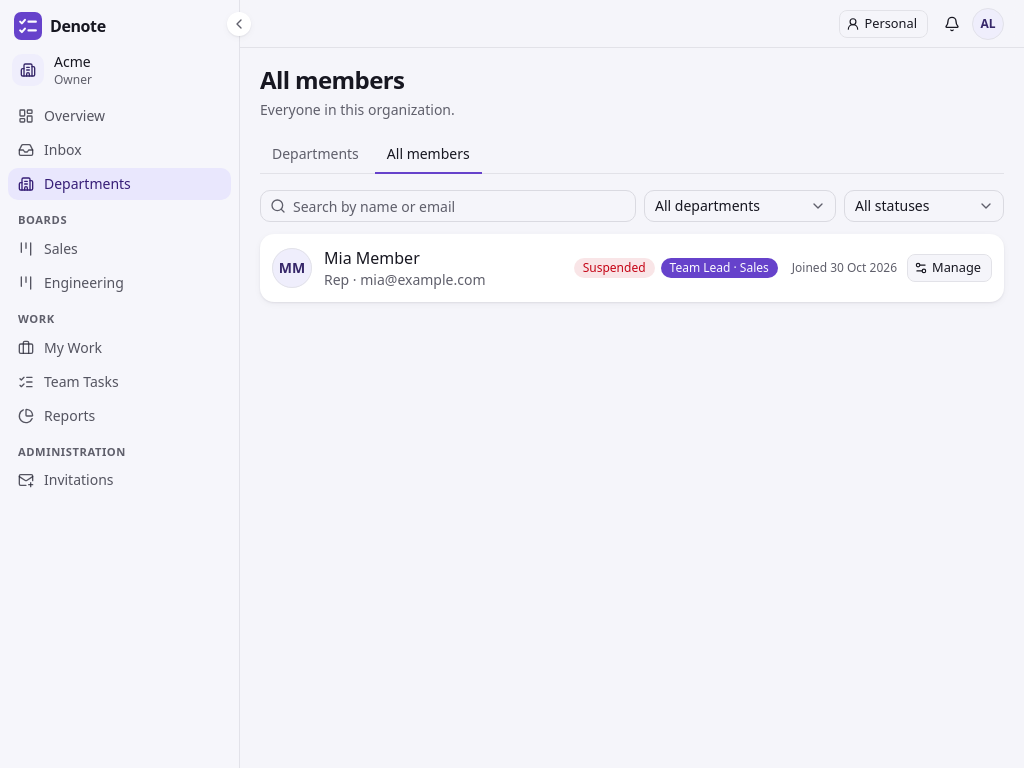
member sheet › shows only the actions the server allows
Click the button with aria-label "Manage Mia Member" at (950, 268), box [907, 254, 992, 282]
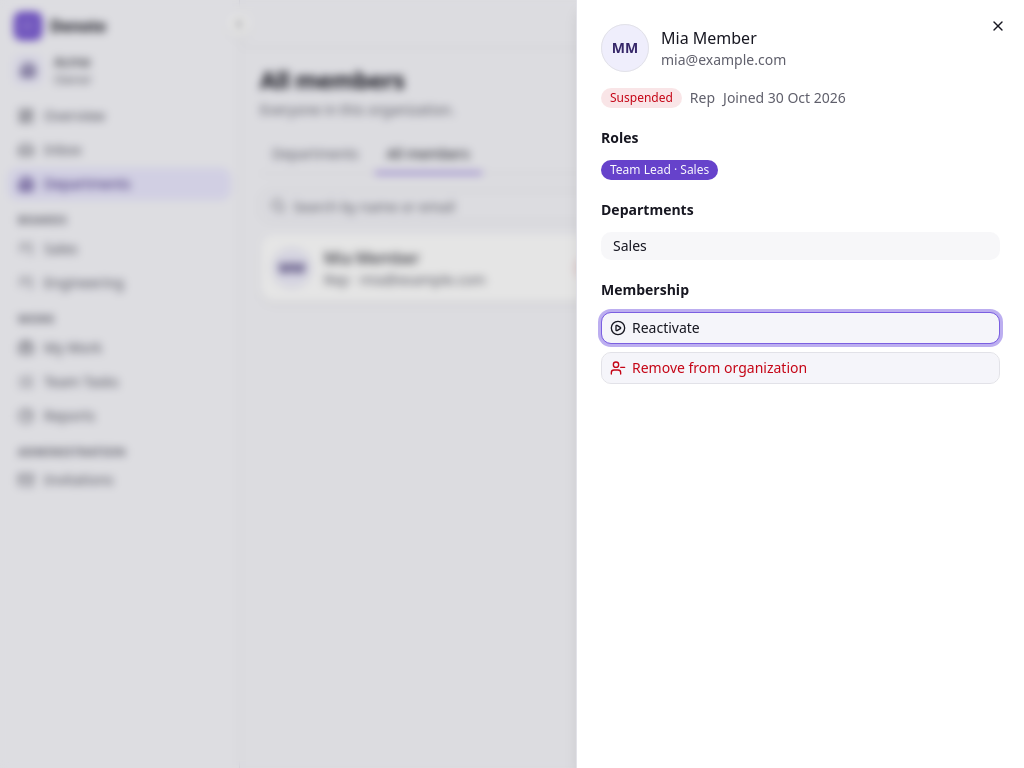
Now the button "Reactivate" is shown, box [601, 312, 1000, 344]
Now the button "Remove from organization" is shown, box [601, 352, 1000, 384]
